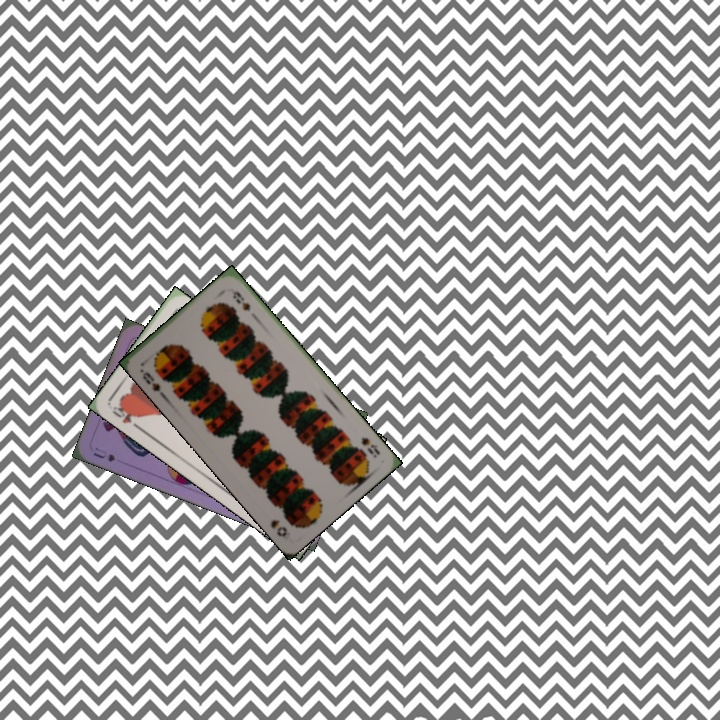HO: (108, 400, 142, 431)
S8: (357, 433, 383, 461), (138, 368, 163, 394)
SU: (89, 443, 118, 464)
